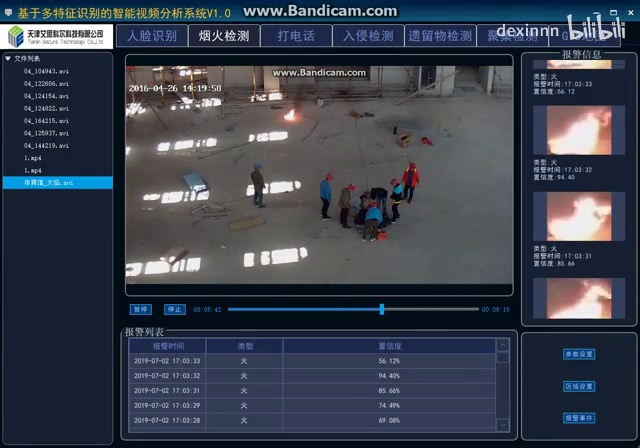fire: (280, 105, 299, 124)
